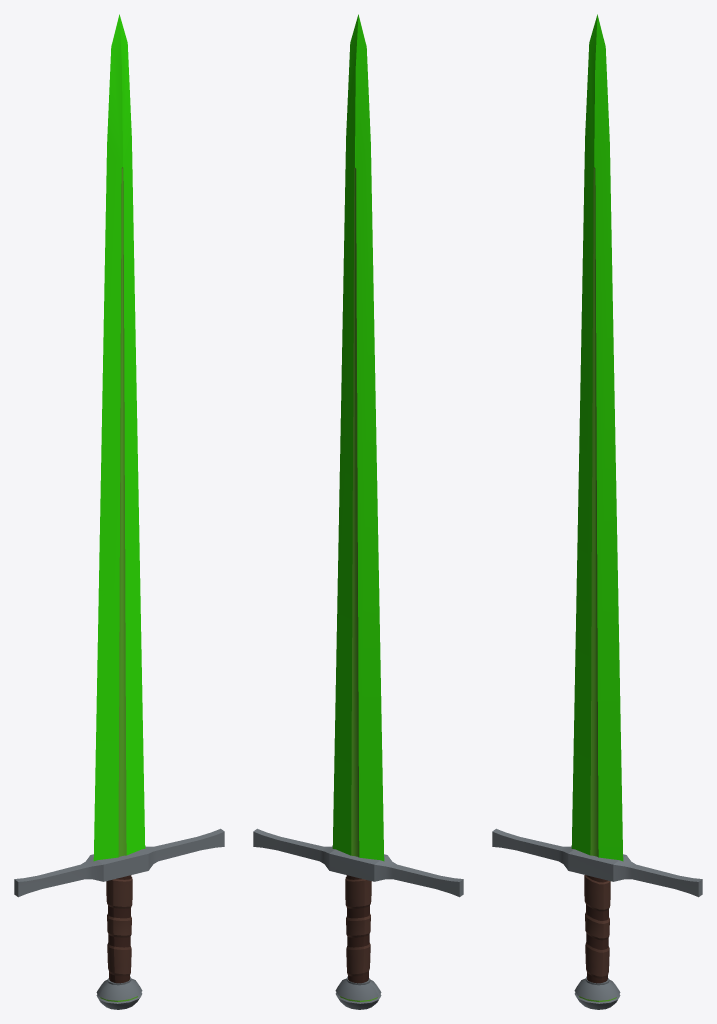
The model's file is SM_Sword01_ArmingSword_7FantasyGreen.fbx.
The picture shows the model from 3 angles, left to right: view 1: azimuth 30°, elevation 25°; view 2: azimuth 150°, elevation 25°; view 3: azimuth 330°, elevation 25°; orthographic projection.
Parts seen in each view (by area): view 1: Cube.431, Cube.432, Cylinder.525, Sphere.152; view 2: Cube.431, Cube.432, Cylinder.525, Sphere.152; view 3: Cube.431, Cube.432, Cylinder.525, Sphere.152.
Boxes of the visible parts, left/top/right/bottom form: Cube.431: left=93, top=14, right=145, bottom=861; Cube.432: left=14, top=828, right=224, bottom=897; Cylinder.525: left=106, top=875, right=132, bottom=983; Sphere.152: left=96, top=976, right=142, bottom=1009; Cube.431: left=332, top=14, right=384, bottom=861; Cube.432: left=253, top=828, right=463, bottom=897; Cylinder.525: left=345, top=875, right=371, bottom=983; Sphere.152: left=335, top=976, right=381, bottom=1009; Cube.431: left=571, top=14, right=623, bottom=861; Cube.432: left=492, top=828, right=702, bottom=897; Cylinder.525: left=584, top=875, right=610, bottom=983; Sphere.152: left=574, top=976, right=620, bottom=1009.
Size of the model in its own units: 0.2 by 0.9179 by 0.0351.
